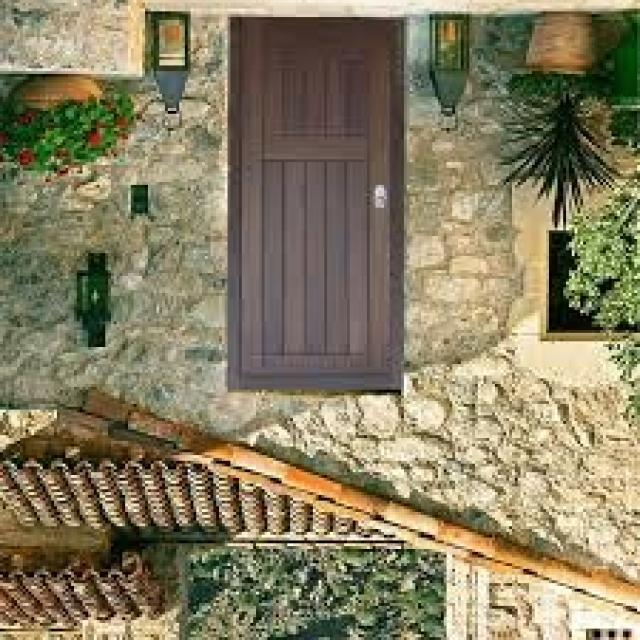door: (226, 17, 405, 395)
